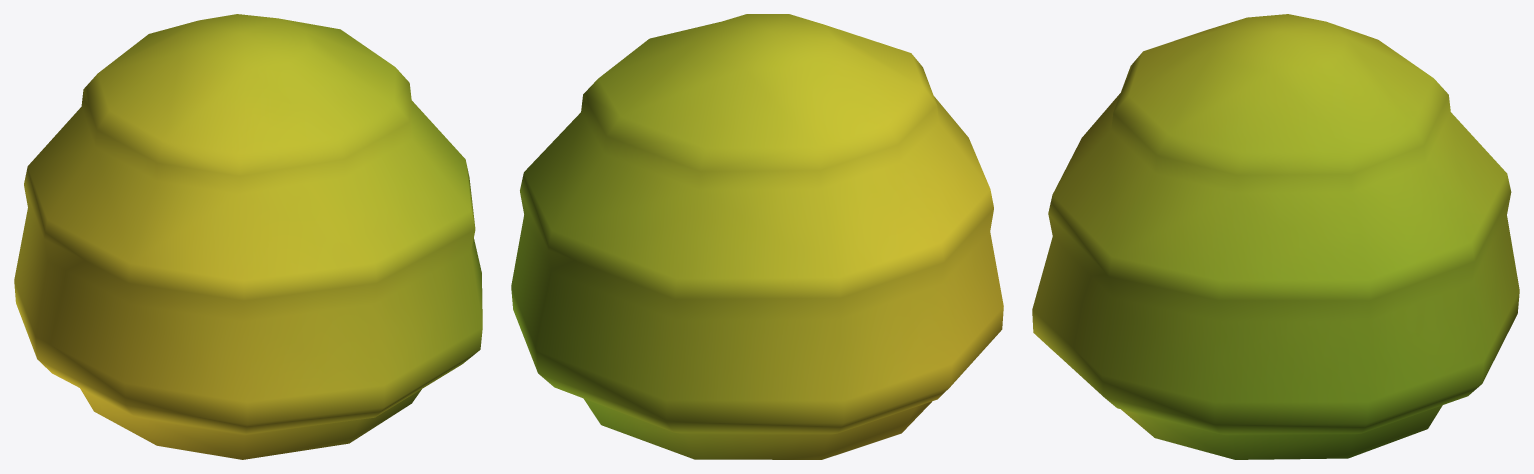
File: SM_Bush_07.fbx
3 views of the same model, side by side, from view 1: azimuth 30°, elevation 25°; view 2: azimuth 150°, elevation 25°; view 3: azimuth 270°, elevation 25° (orthographic). The views are drawn at different scales.
Visible parts, largest first — view 1: SM_Bush_07; view 2: SM_Bush_07; view 3: SM_Bush_07.
Boxes of the visible parts, x1,y1,x2,y2 form: SM_Bush_07: (14,14,482,459); SM_Bush_07: (511,14,1003,459); SM_Bush_07: (1032,14,1519,459).
Size of the model in its own units: 133 by 112 by 140.
